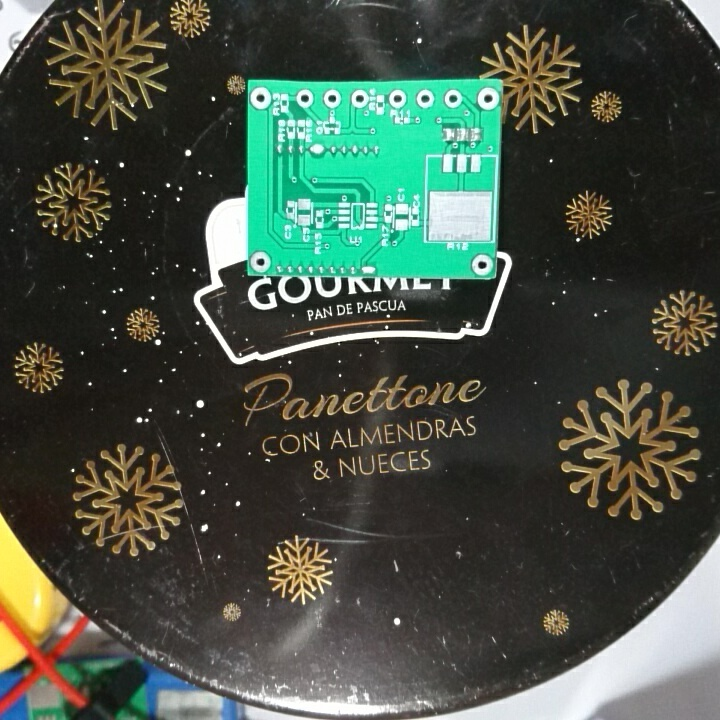F: (469, 250, 495, 279), (474, 85, 501, 112), (248, 249, 273, 275), (250, 86, 273, 112), (414, 87, 437, 111), (387, 87, 410, 111), (441, 87, 464, 109), (293, 88, 316, 109), (322, 87, 343, 109), (349, 86, 369, 109)
P: (307, 140, 328, 160), (359, 263, 378, 277)
